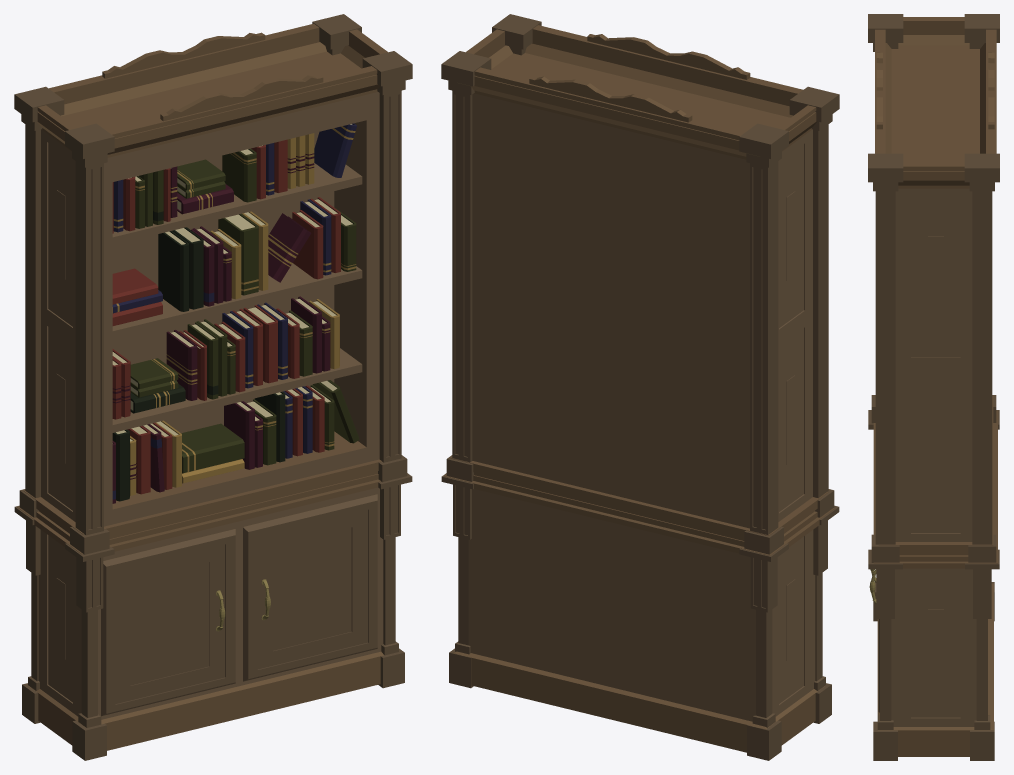
File: Bookcase_Books.glb
3 views of the same model, side by side, from view 1: azimuth 30°, elevation 25°; view 2: azimuth 150°, elevation 25°; view 3: azimuth 270°, elevation 25° (orthographic). The views are drawn at different scales.
Parts seen in each view (by area): view 1: Bookcase_Books; view 2: Bookcase_Books; view 3: Bookcase_Books.
Boxes of the visible parts, left/top/right/bottom form: Bookcase_Books: left=14, top=14, right=412, bottom=760; Bookcase_Books: left=441, top=14, right=839, bottom=760; Bookcase_Books: left=868, top=14, right=999, bottom=760.
Size of the model in its own units: 1.22 by 2.24 by 0.4418.
Materials: 11 (11 with a texture image).
